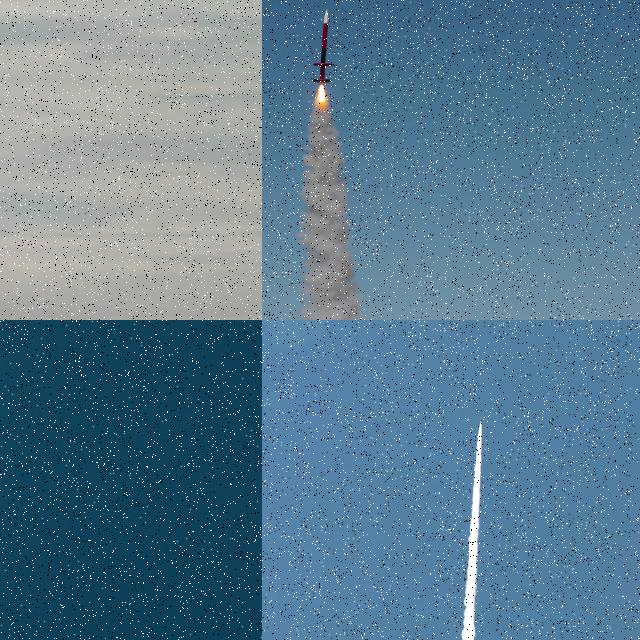Rocket: (312, 8, 333, 83), (480, 416, 483, 424)
